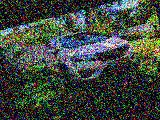car: (36, 17, 142, 96)
